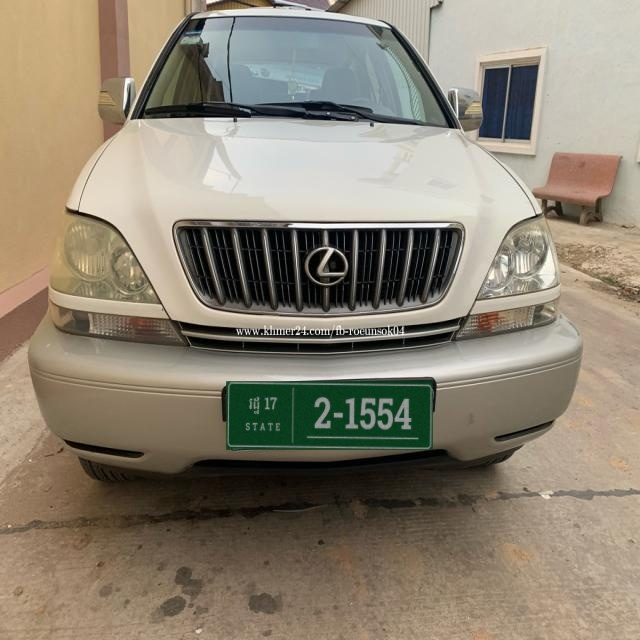Plate Number: (226, 382, 434, 450)
